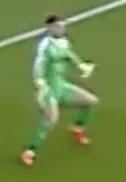goalkeeper: (16, 8, 115, 170)
